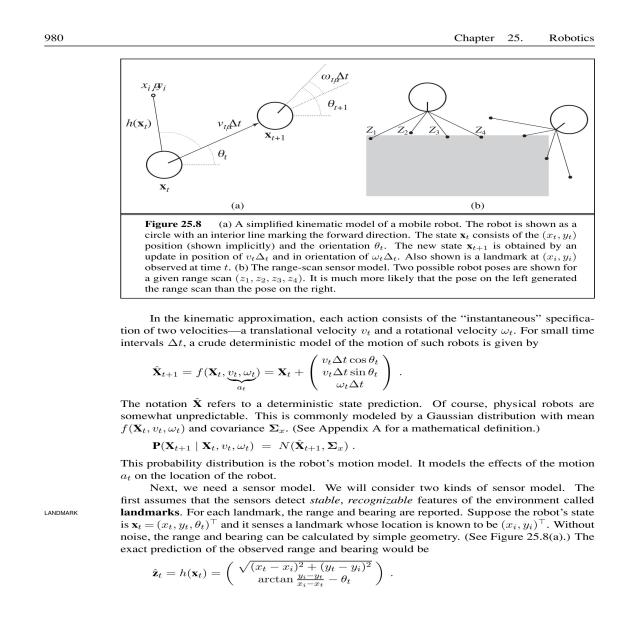diagram: (104, 50, 590, 309)
